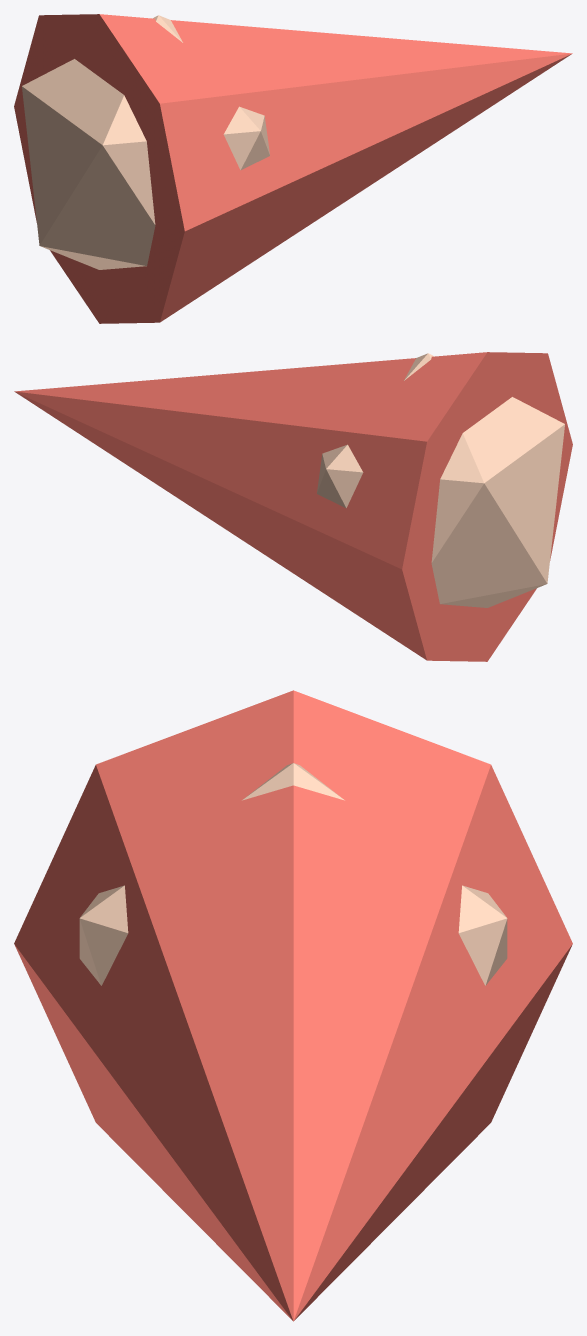
The model's file is shell_conch.glb.
The picture shows the model from 3 angles, top to bottom: view 1: azimuth 30°, elevation 25°; view 2: azimuth 150°, elevation 25°; view 3: azimuth 270°, elevation 25°; orthographic projection. The views are drawn at different scales.
Visible parts, largest first — view 1: shell_conch; view 2: shell_conch; view 3: shell_conch.
Boxes of the visible parts, bbox=[...] form: shell_conch: bbox=[14, 14, 572, 323]; shell_conch: bbox=[14, 352, 572, 661]; shell_conch: bbox=[14, 690, 572, 1321].
Bounding box in the file's own units: 0.3605 × 0.2 × 0.2.
